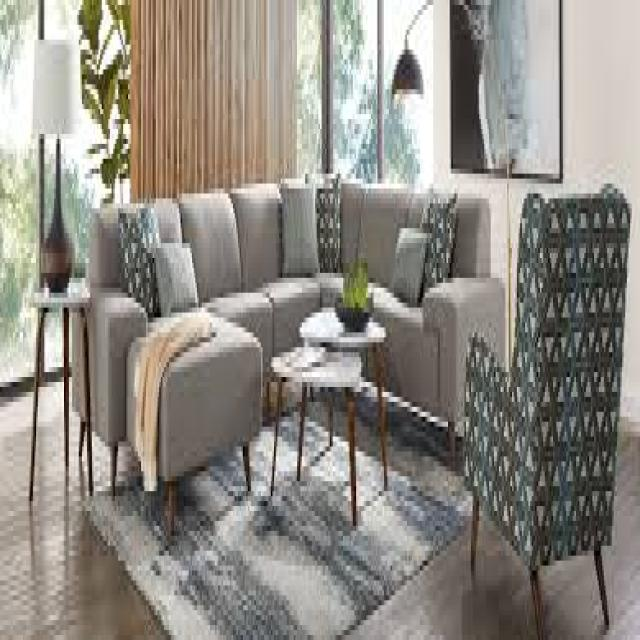Chair: (461, 174, 637, 599)
Lamp: (32, 28, 75, 286)
Sofa: (82, 151, 504, 552)
Table: (275, 282, 392, 519), (22, 285, 95, 544)
